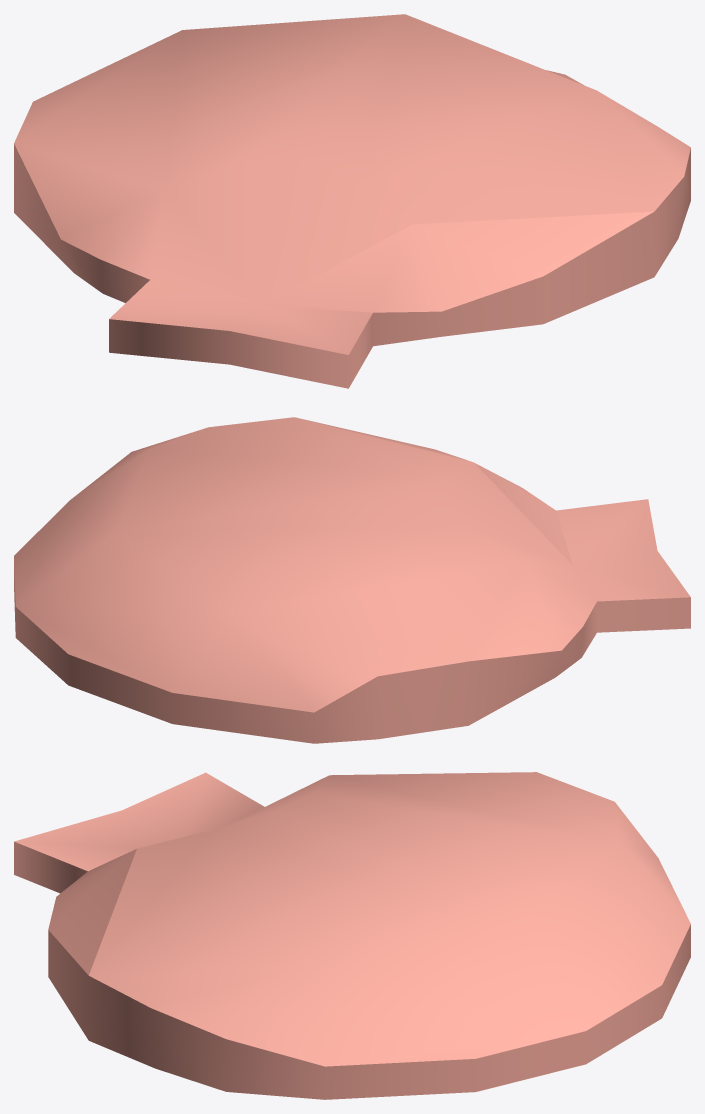
The model's file is SM_Seashell_01.FBX.
3 views of the same model, one above another, from view 1: azimuth 30°, elevation 25°; view 2: azimuth 150°, elevation 25°; view 3: azimuth 270°, elevation 25° (orthographic). The views are drawn at different scales.
Parts seen in each view (by area): view 1: Seashell; view 2: Seashell; view 3: Seashell.
Boxes of the visible parts, x1,y1,x2,y2 form: Seashell: [14, 14, 690, 388]; Seashell: [14, 417, 690, 743]; Seashell: [14, 772, 690, 1099].
Size of the model in its own units: 3.04 by 0.5272 by 2.96.
